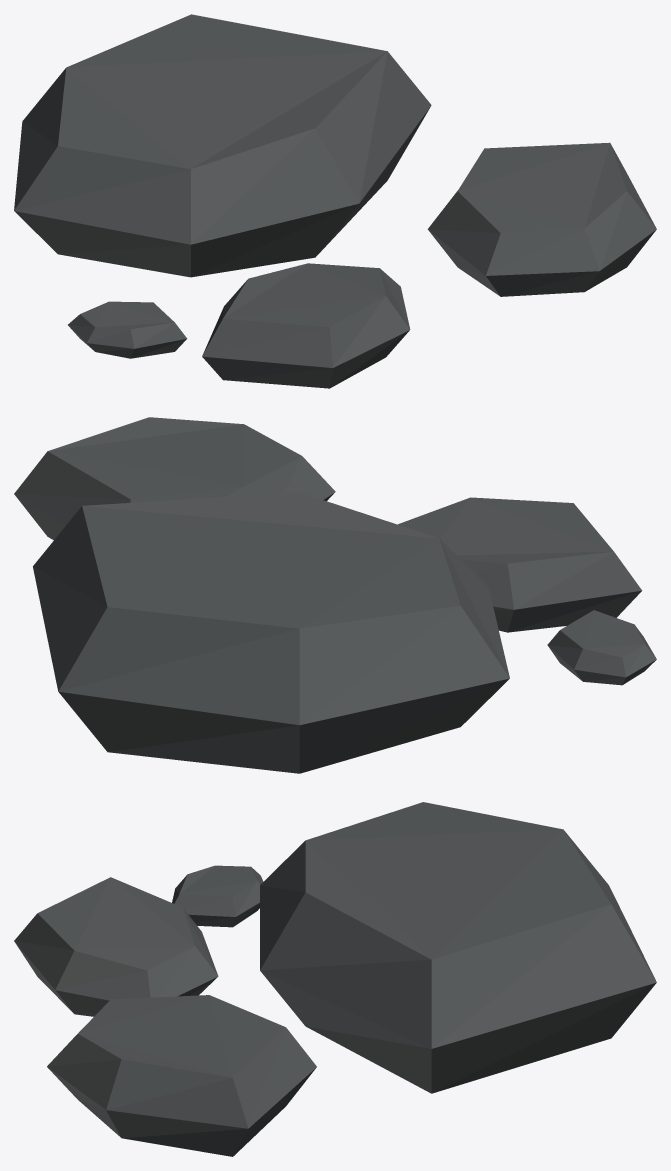
The model's file is rock_010.fbx.
The picture shows the model from 3 angles, top to bottom: view 1: azimuth 30°, elevation 25°; view 2: azimuth 150°, elevation 25°; view 3: azimuth 270°, elevation 25°; orthographic projection. The views are drawn at different scales.
Visible parts, largest first — view 1: rock.010; view 2: rock.010; view 3: rock.010.
Boxes of the visible parts, x1,y1,x2,y2 form: rock.010: [14, 14, 656, 388]; rock.010: [14, 417, 656, 773]; rock.010: [14, 802, 656, 1156].
Bounding box in the file's own units: 30.69 × 7.26 × 29.67.
